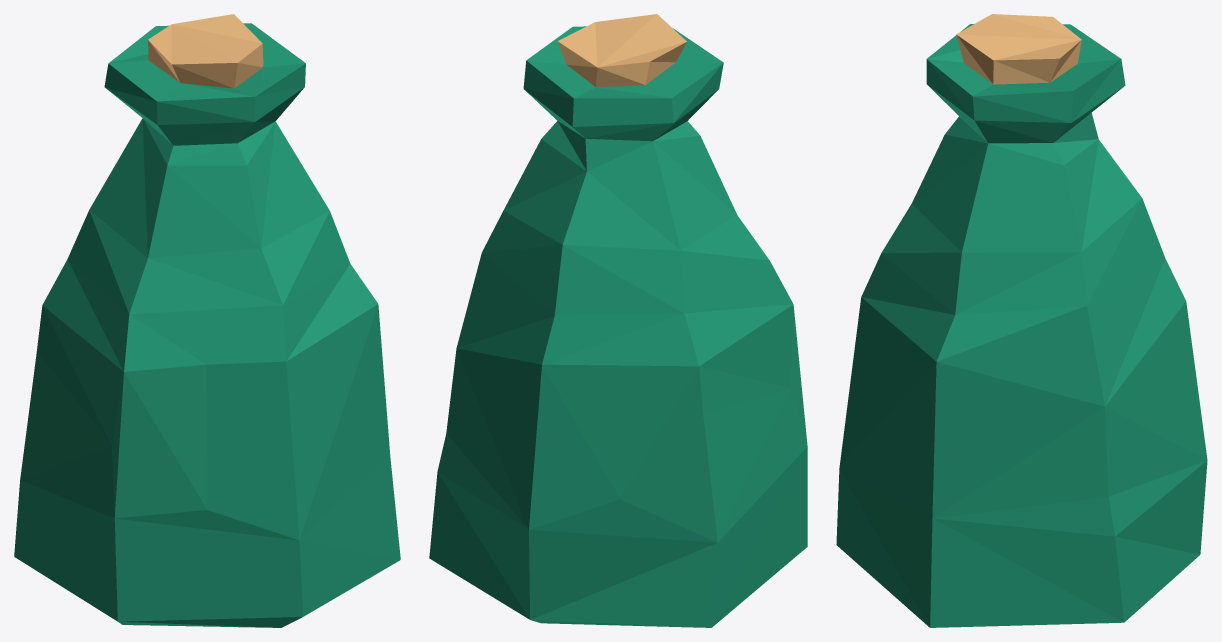
The model's file is SFV_Bottles_003.fbx.
The picture shows the model from 3 angles, left to right: view 1: azimuth 30°, elevation 25°; view 2: azimuth 150°, elevation 25°; view 3: azimuth 270°, elevation 25°; orthographic projection.
Parts seen in each view (by area): view 1: SFV_Bottles_003; view 2: SFV_Bottles_003; view 3: SFV_Bottles_003.
Boxes of the visible parts, x1,y1,x2,y2 form: SFV_Bottles_003: [14, 14, 400, 627]; SFV_Bottles_003: [429, 14, 807, 627]; SFV_Bottles_003: [836, 14, 1207, 627].
Size of the model in its own units: 17.75 by 31.06 by 19.84.
